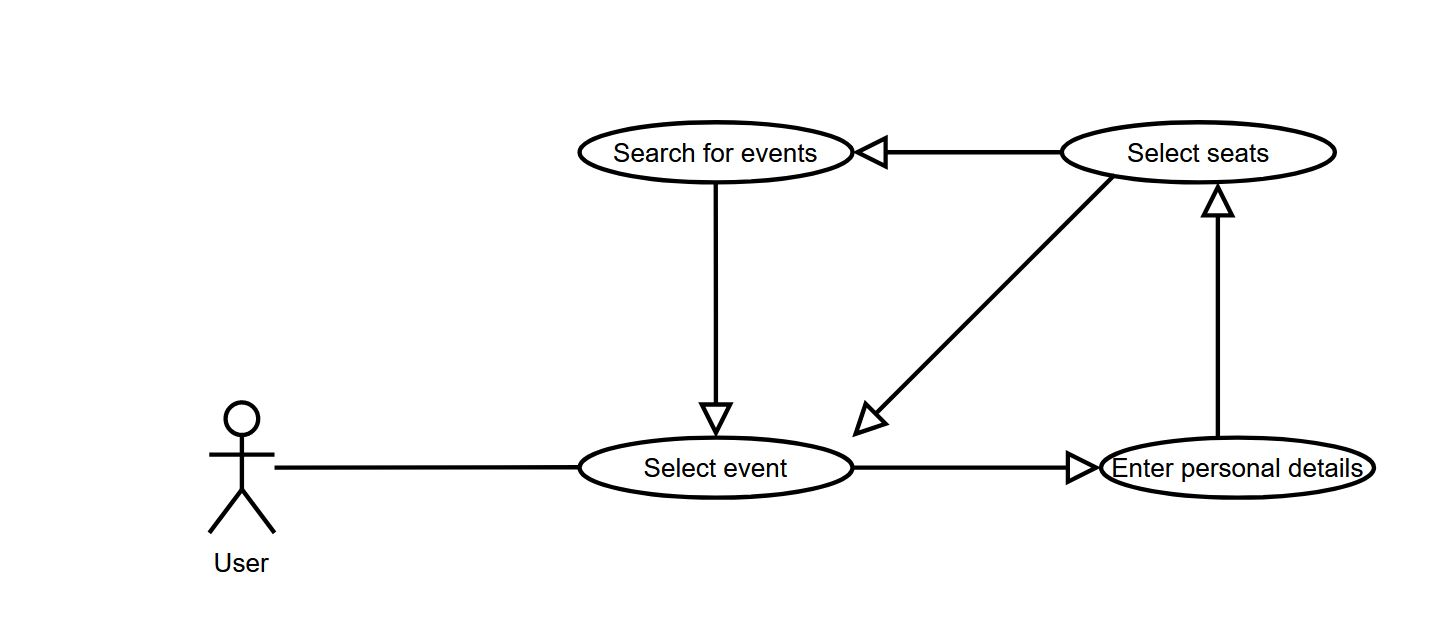actor: (204, 396, 280, 539)
association: (274, 454, 579, 487)
generalization: (856, 177, 1112, 435), (697, 183, 736, 437), (1197, 184, 1236, 434), (851, 450, 1098, 485), (855, 131, 1057, 171)
text: (611, 137, 819, 169), (1110, 454, 1364, 480), (637, 451, 796, 484), (1121, 136, 1271, 167), (211, 546, 289, 577)
use_case: (1097, 433, 1378, 503), (575, 119, 854, 187), (579, 434, 855, 502), (1058, 119, 1338, 184)
